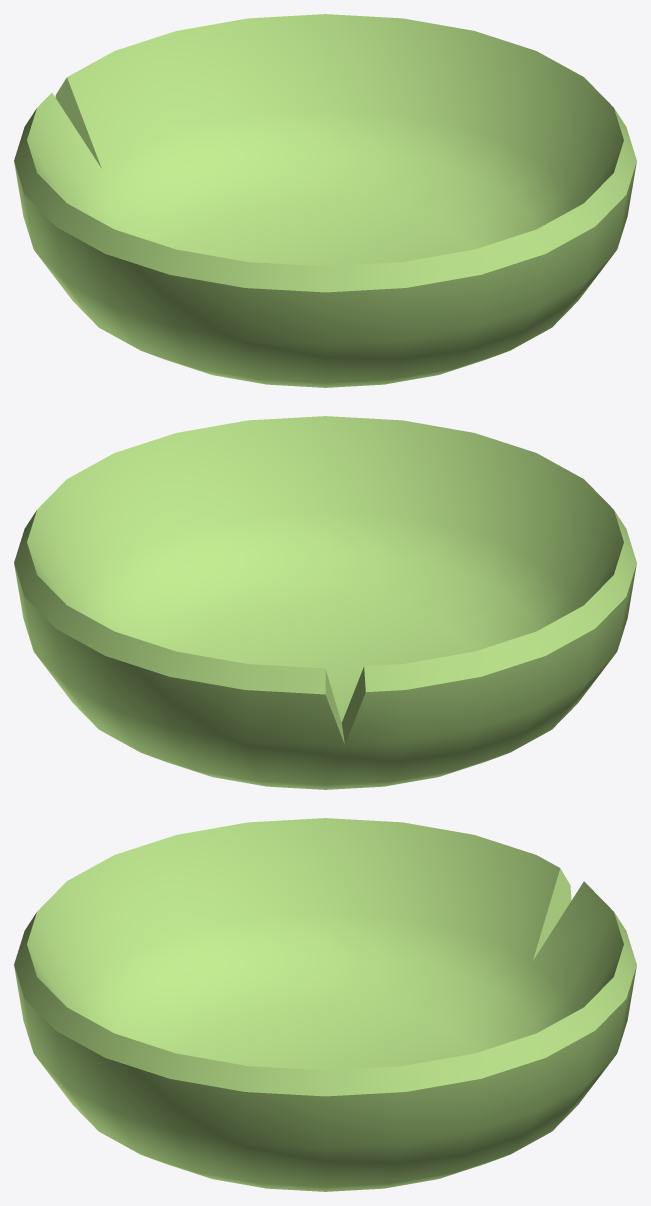
Rendered from bowlChipped.fbx.
3 renders of one model, top to bottom at view 1: azimuth 30°, elevation 25°; view 2: azimuth 150°, elevation 25°; view 3: azimuth 270°, elevation 25°, orthographic.
Parts seen in each view (by area): view 1: Bowl Chipped; view 2: Bowl Chipped; view 3: Bowl Chipped.
Boxes of the visible parts, x1,y1,x2,y2 form: Bowl Chipped: (14,14,636,387); Bowl Chipped: (14,416,636,789); Bowl Chipped: (14,818,636,1191).
Bounding box in the file's own units: 10.09 × 10.09 × 3.1.
